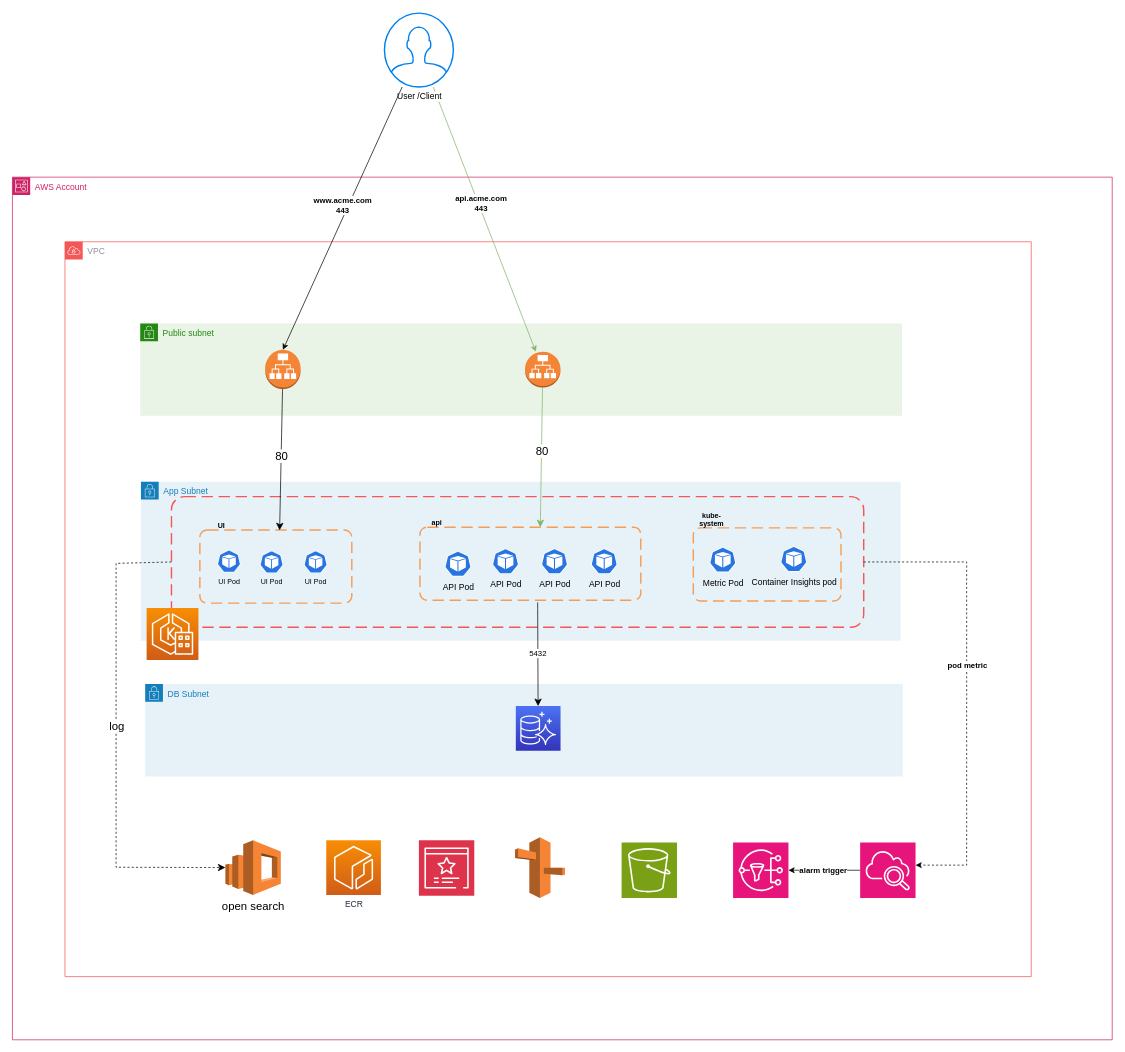
Some shapes in this 1125 by 1052 pixel diagram are drawn without their labels. The shapes that lost their labels are listed below. From the top down, each one's centre as x and y in pixels, then its label:
At point (282, 369): "UI Ingress".
At point (542, 369): "API Ingress".
At point (172, 633): "EKS Cluster".
At point (538, 728): "Aurora Postgres DB".
At point (446, 868): "ACM".
At point (539, 867): "Route53".
At point (649, 870): "S3".
At point (760, 870): "SNS".
At point (887, 870): "Cloud Watch".
